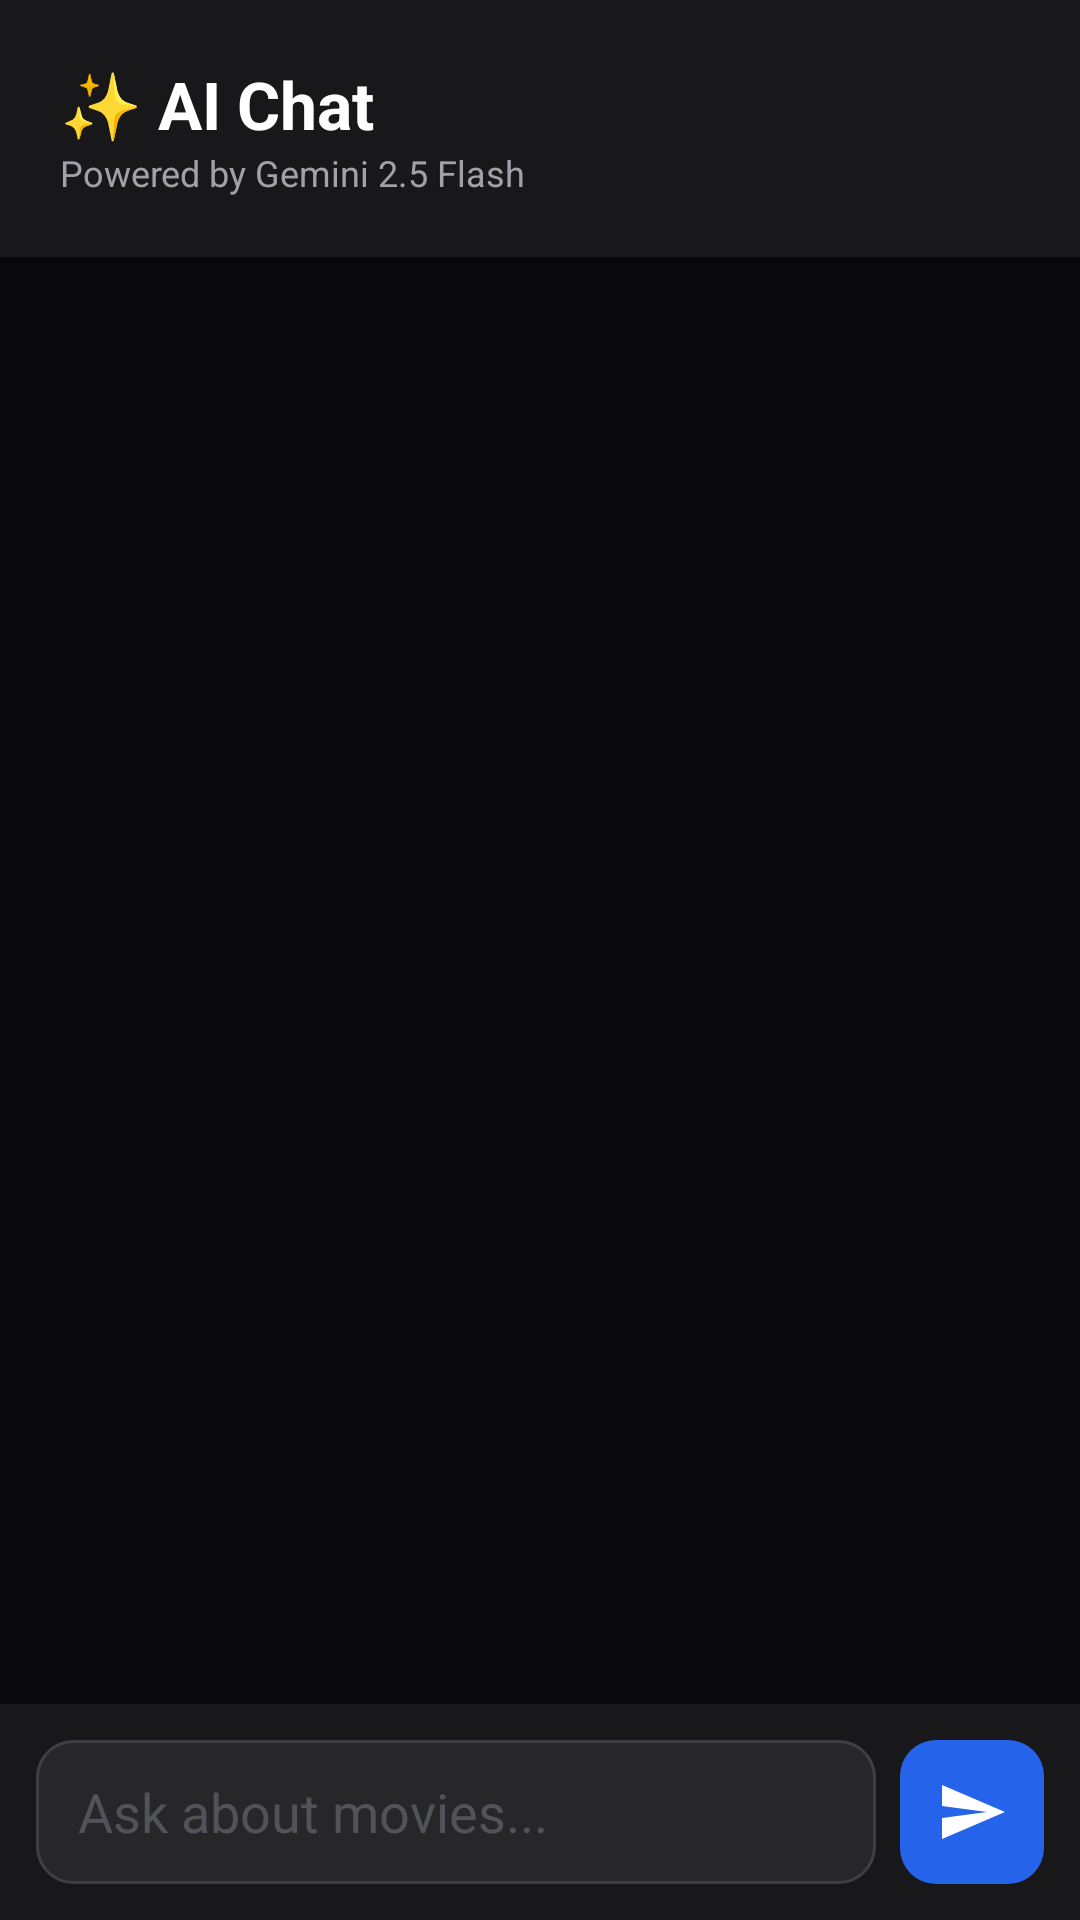

Icons on this 1080 x 1920 Android screen, each with the point to tap as [x,y]:
Send: [972,1812]
